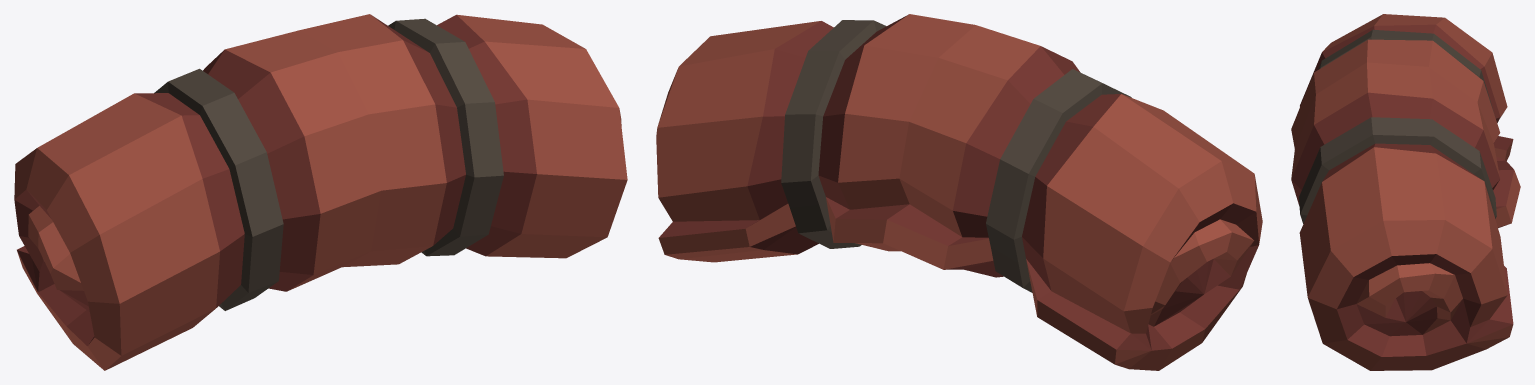
The model's file is SM_Chr_Attach_Saddle_Roll_01.fbx.
3 views of the same model, side by side, from view 1: azimuth 30°, elevation 25°; view 2: azimuth 150°, elevation 25°; view 3: azimuth 270°, elevation 25° (orthographic). The views are drawn at different scales.
Parts seen in each view (by area): view 1: SM_Chr_Attach_Saddle_Roll_01; view 2: SM_Chr_Attach_Saddle_Roll_01; view 3: SM_Chr_Attach_Saddle_Roll_01.
Boxes of the visible parts, x1,y1,x2,y2 form: SM_Chr_Attach_Saddle_Roll_01: [14, 14, 627, 370]; SM_Chr_Attach_Saddle_Roll_01: [656, 14, 1262, 370]; SM_Chr_Attach_Saddle_Roll_01: [1291, 14, 1520, 370].
Size of the model in its own units: 40.32 by 18.11 by 17.29.
